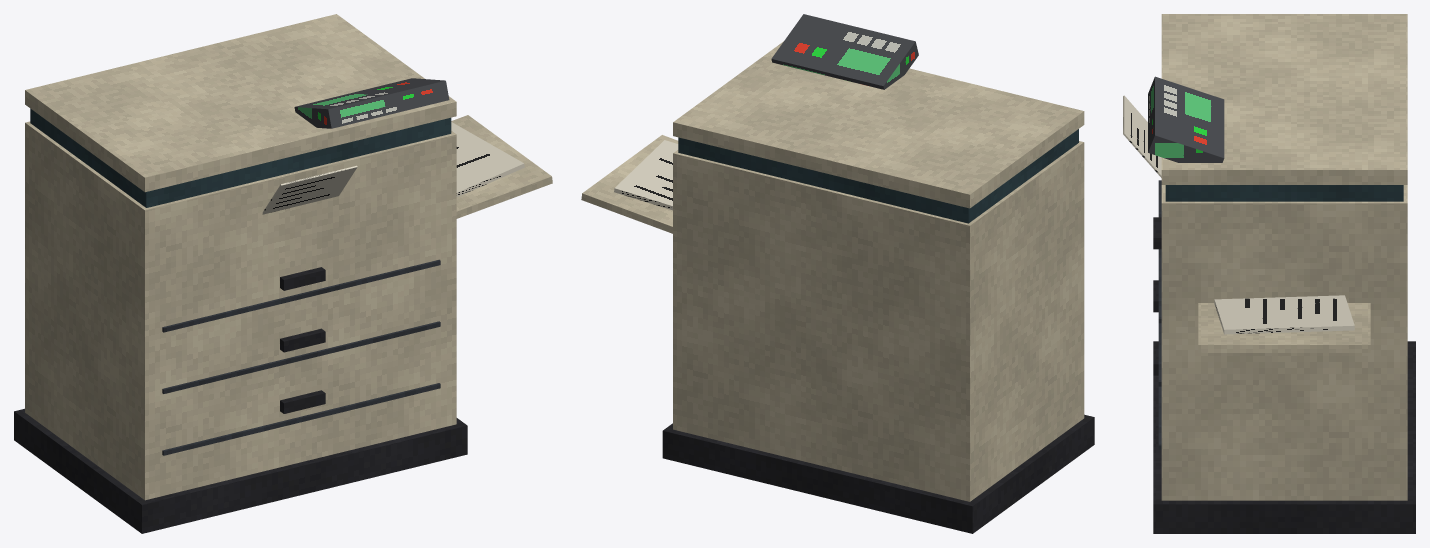
Rendered from tfg_copier.glb.
3 views of the same model, side by side, from view 1: azimuth 30°, elevation 25°; view 2: azimuth 150°, elevation 25°; view 3: azimuth 270°, elevation 25° (orthographic). The views are drawn at different scales.
Visible parts, largest first — view 1: tfg_copier; view 2: tfg_copier; view 3: tfg_copier.
Part boxes in pixels (left/top/right/bottom): tfg_copier: left=14, top=14, right=552, bottom=533; tfg_copier: left=581, top=14, right=1094, bottom=533; tfg_copier: left=1123, top=14, right=1415, bottom=533.
Size of the model in its own units: 1.25 by 1.04 by 0.7137.
6 materials, 6 textured.
